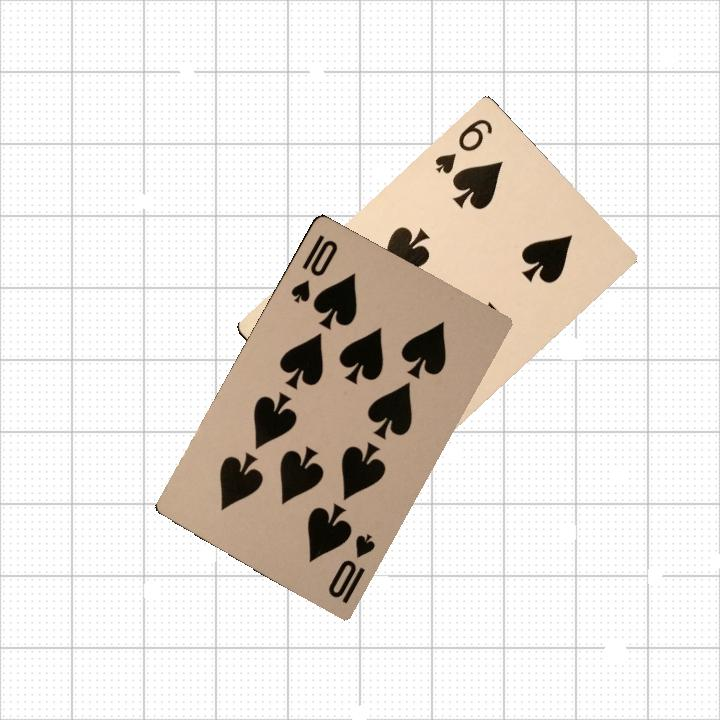10s: (286, 231, 341, 306), (324, 530, 378, 606)
6s: (430, 114, 496, 177)
